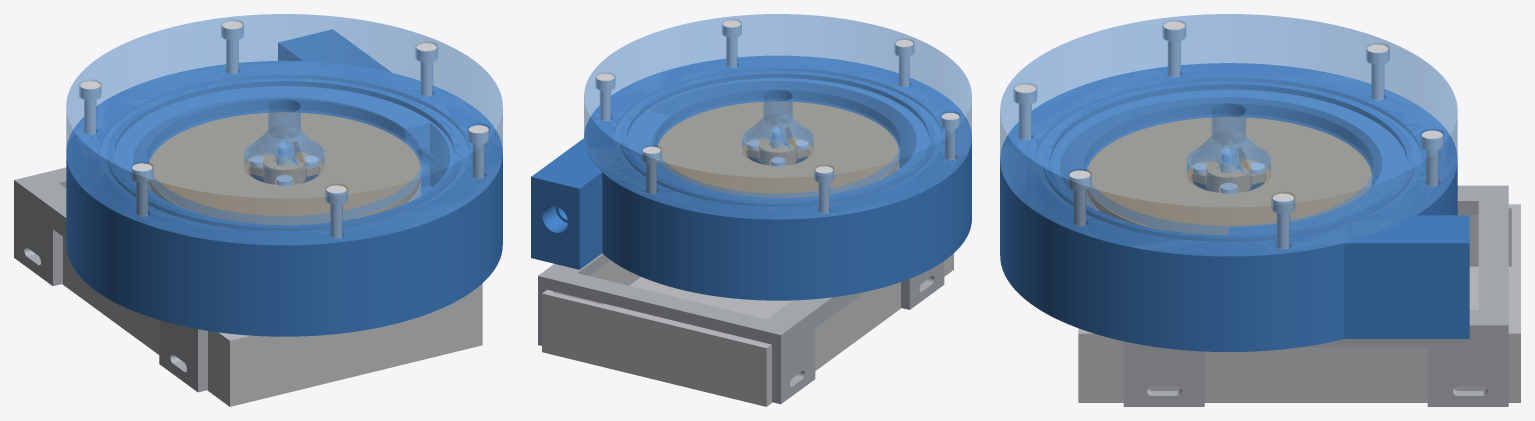
File: bomba-tesla-hdd.glb
3 renders of one model, left to right at view 1: azimuth 30°, elevation 25°; view 2: azimuth 150°, elevation 25°; view 3: azimuth 270°, elevation 25°, orthographic. The views are drawn at different scales.
Visible parts, largest first — view 1: 02_tapa, 01_carcasa_base, 05_rotor_placa_superior, hdd_casting, 07_puente_chasis_hdd, bolt.001, bolt.004, bolt.003, bolt.002, bolt.005, bolt; view 2: 01_carcasa_base, 02_tapa, hdd_casting, 05_rotor_placa_superior, 07_puente_chasis_hdd, bolt, bolt.001, bolt.002, bolt.005, bolt.004, bolt.003; view 3: 02_tapa, 01_carcasa_base, 05_rotor_placa_superior, hdd_casting, 07_puente_chasis_hdd, bolt.002, bolt.005, bolt.003, bolt, bolt.004, bolt.001.
Boxes of the visible parts, x1,y1,x2,y2 form: 02_tapa: (66, 14, 502, 245); 01_carcasa_base: (66, 29, 502, 336); 05_rotor_placa_superior: (148, 112, 420, 224); hdd_casting: (62, 237, 482, 406); 07_puente_chasis_hdd: (14, 167, 207, 392); bolt.001: (222, 21, 242, 73); bolt.004: (326, 185, 346, 238); bolt.003: (132, 163, 152, 216); bolt.002: (80, 81, 100, 134); bolt.005: (468, 125, 488, 178); bolt: (416, 43, 436, 95); 01_carcasa_base: (531, 55, 971, 300); 02_tapa: (584, 14, 971, 219); hdd_casting: (542, 253, 953, 406); 05_rotor_placa_superior: (658, 101, 898, 197); 07_puente_chasis_hdd: (538, 253, 944, 404); bolt: (596, 73, 614, 120); bolt.001: (642, 146, 660, 193); bolt.002: (815, 166, 833, 213); bolt.005: (723, 20, 740, 67); bolt.004: (895, 40, 913, 86); bolt.003: (941, 113, 959, 159); 02_tapa: (1000, 14, 1457, 256); 01_carcasa_base: (1000, 63, 1469, 351); 05_rotor_placa_superior: (1086, 117, 1371, 234); hdd_casting: (1078, 204, 1520, 402); 07_puente_chasis_hdd: (1123, 185, 1508, 406); bolt.002: (1367, 44, 1388, 99); bolt.005: (1069, 170, 1090, 225); bolt.003: (1163, 21, 1184, 76); bolt: (1273, 193, 1293, 248); bolt.004: (1015, 84, 1035, 139); bolt.001: (1422, 130, 1442, 185).
Size of the model in its own units: 152 by 83.48 by 173.
